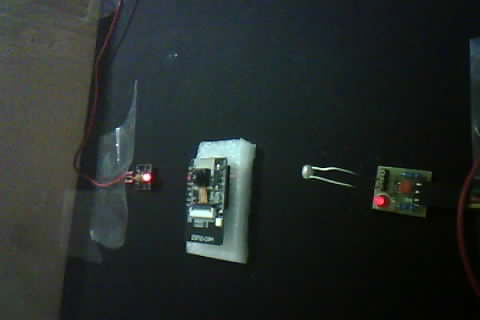esp32: (180, 142, 253, 261)
